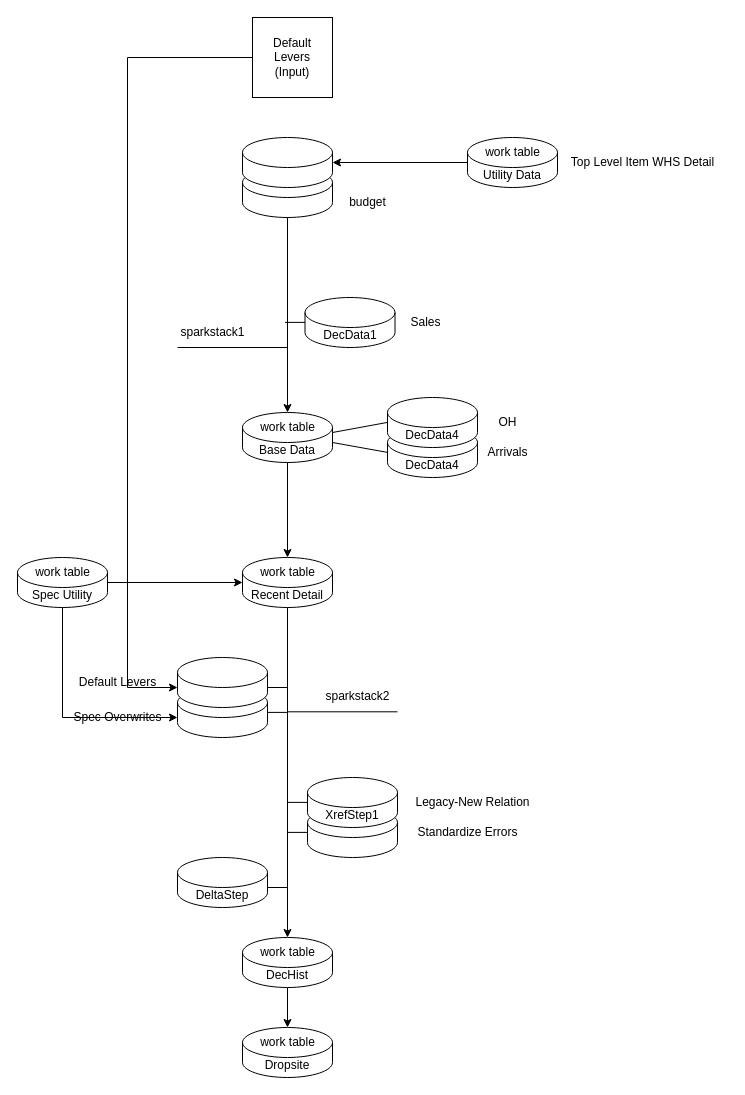
The diagram is 745 pixels wide and 1095 high, and some of its shapes have lost their labels. The centre of each missing label's shape, as x and y in pixels:
DecStep1: the point at 222,682
DecStep2: the point at 222,712
Spine: the point at 287,162
Vert1: the point at 287,192
XrefStep2: the point at 352,832
